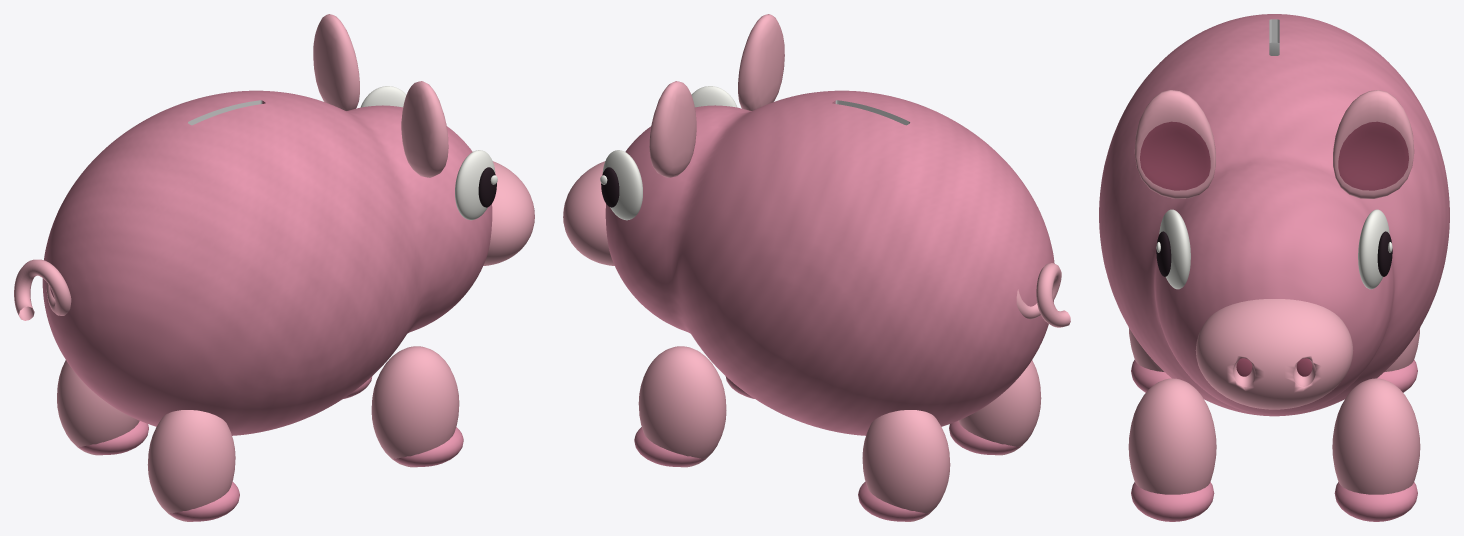
The model's file is ceramic-piggy-bank.glb.
The picture shows the model from 3 angles, left to right: view 1: azimuth 30°, elevation 25°; view 2: azimuth 150°, elevation 25°; view 3: azimuth 270°, elevation 25°; orthographic projection. The views are drawn at different scales.
Parts seen in each view (by area): view 1: CeramicShell, Rounded foot.002, Rounded foot, Rounded foot.001, Rounded concave ear, Rounded concave ear.001, Soft oval snout, Handmade curled tail, Ivory painted eye, Hoof tip.002, Hoof tip, Hoof tip.001 (+1 smaller); view 2: CeramicShell, Rounded foot.003, Rounded foot.001, Rounded foot, Rounded concave ear.001, Rounded concave ear, Soft oval snout, Handmade curled tail, Ivory painted eye.001, Hoof tip.001, Hoof tip.003, Hoof tip (+1 smaller); view 3: CeramicShell, Soft oval snout, Rounded foot.002, Rounded foot.003, Rounded concave ear, Rounded concave ear.001, Hoof tip.002, Hoof tip.003, Ivory painted eye, Ivory painted eye.001, Hoof tip, Hoof tip.001 (+4 smaller).
Boxes of the visible parts, x1,y1,x2,y2 form: CeramicShell: (42, 90, 492, 435); Rounded foot.002: (371, 346, 459, 467); Rounded foot: (147, 410, 235, 521); Rounded foot.001: (57, 360, 139, 455); Rounded concave ear: (401, 81, 448, 177); Rounded concave ear.001: (313, 14, 359, 110); Soft oval snout: (483, 161, 534, 265); Handmade curled tail: (14, 259, 71, 320); Ivory painted eye: (455, 150, 495, 220); Hoof tip.002: (393, 427, 463, 466); Hoof tip: (170, 481, 239, 521); Hoof tip.001: (79, 421, 148, 454); CeramicShell: (605, 90, 1054, 435); Rounded foot.003: (638, 346, 726, 467); Rounded foot.001: (862, 410, 950, 521); Rounded foot: (958, 360, 1041, 455); Rounded concave ear.001: (649, 81, 696, 177); Rounded concave ear: (738, 14, 784, 110); Soft oval snout: (563, 161, 614, 265); Handmade curled tail: (1016, 263, 1070, 327); Ivory painted eye.001: (602, 150, 642, 220); Hoof tip.001: (858, 481, 927, 521); Hoof tip.003: (634, 427, 704, 466); Hoof tip: (949, 421, 1018, 454); CeramicShell: (1099, 14, 1449, 416); Soft oval snout: (1195, 299, 1353, 409); Rounded foot.002: (1128, 378, 1216, 494); Rounded foot.003: (1332, 378, 1420, 494); Rounded concave ear: (1134, 90, 1215, 198); Rounded concave ear.001: (1333, 90, 1414, 198); Hoof tip.002: (1131, 482, 1214, 521); Hoof tip.003: (1334, 482, 1417, 521); Ivory painted eye: (1159, 209, 1190, 289); Ivory painted eye.001: (1358, 209, 1389, 289); Hoof tip: (1131, 359, 1171, 392); Hoof tip.001: (1377, 359, 1417, 392).
Bounding box in the file's own units: 2.8 × 2.03 × 1.52.
